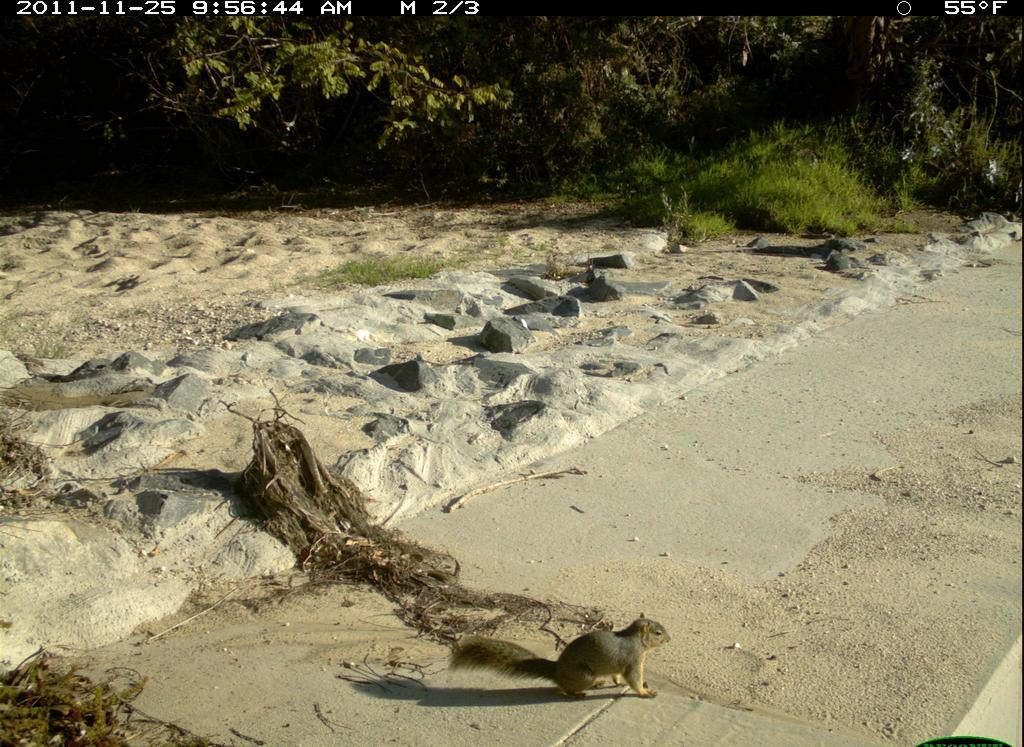squirrel: (437, 609, 681, 715)
